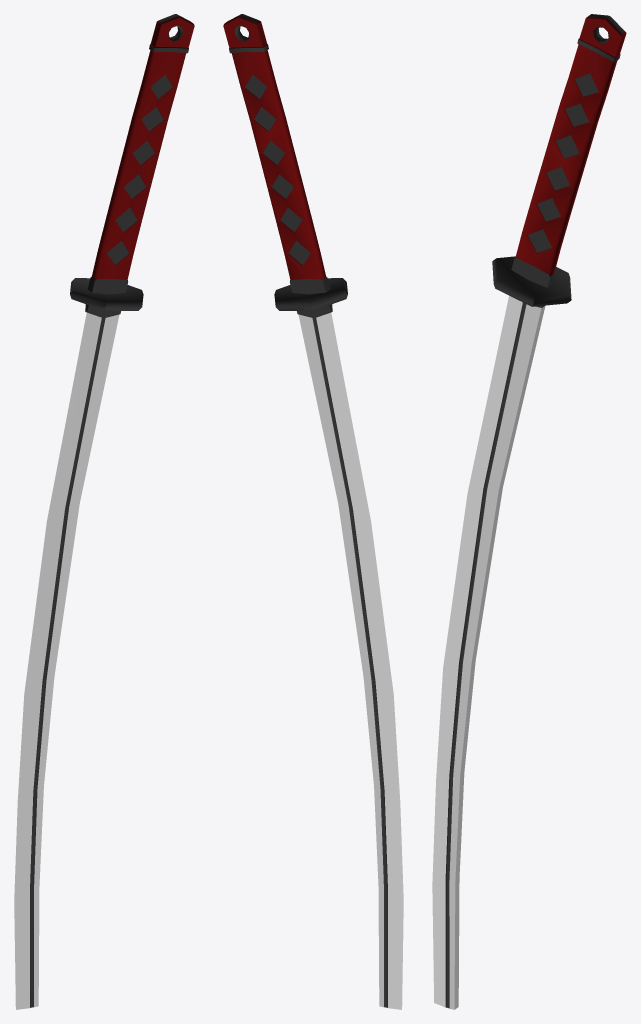
File: katana_basic.glb
3 views of the same model, side by side, from view 1: azimuth 30°, elevation 25°; view 2: azimuth 150°, elevation 25°; view 3: azimuth 330°, elevation 25° (orthographic). The views are drawn at different scales.
Parts seen in each view (by area): view 1: 2.026, primary, 0.089; view 2: 2.026, primary, 0.089; view 3: 2.026, 0.089, primary.
Part boxes in pixels (x1,y1,x2,y2): 2.026: (14,312,119,1009); primary: (92,16,194,279); 0.089: (30,14,192,1007); 2.026: (298,312,403,1009); primary: (223,16,325,279); 0.089: (225,14,387,1007); 2.026: (432,295,545,1009); 0.089: (445,14,624,1008); primary: (516,16,626,274).
Bounding box in the file's own units: 0.203 × 1.04 × 0.0673.
